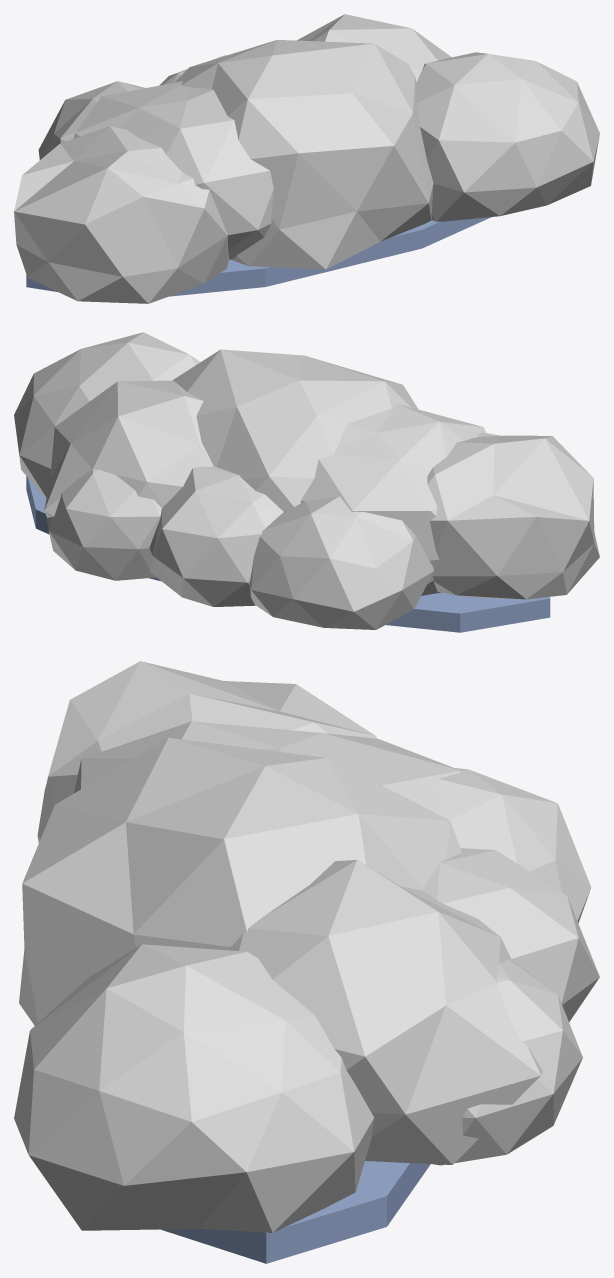
The model's file is CloudA.fbx.
3 views of the same model, one above another, from view 1: azimuth 30°, elevation 25°; view 2: azimuth 150°, elevation 25°; view 3: azimuth 270°, elevation 25° (orthographic). The views are drawn at different scales.
Visible parts, largest first — view 1: CloudA_Puffs, CloudA_Shade; view 2: CloudA_Puffs, CloudA_Shade; view 3: CloudA_Puffs, CloudA_Shade.
Part boxes in pixels (x1,y1,x2,y2): CloudA_Puffs: (14,14,599,303); CloudA_Shade: (26,217,491,296); CloudA_Puffs: (14,332,599,629); CloudA_Shade: (26,476,550,632); CloudA_Puffs: (14,661,599,1232); CloudA_Shade: (160,1161,430,1263).
Size of the model in its own units: 296 by 87.43 by 164.
